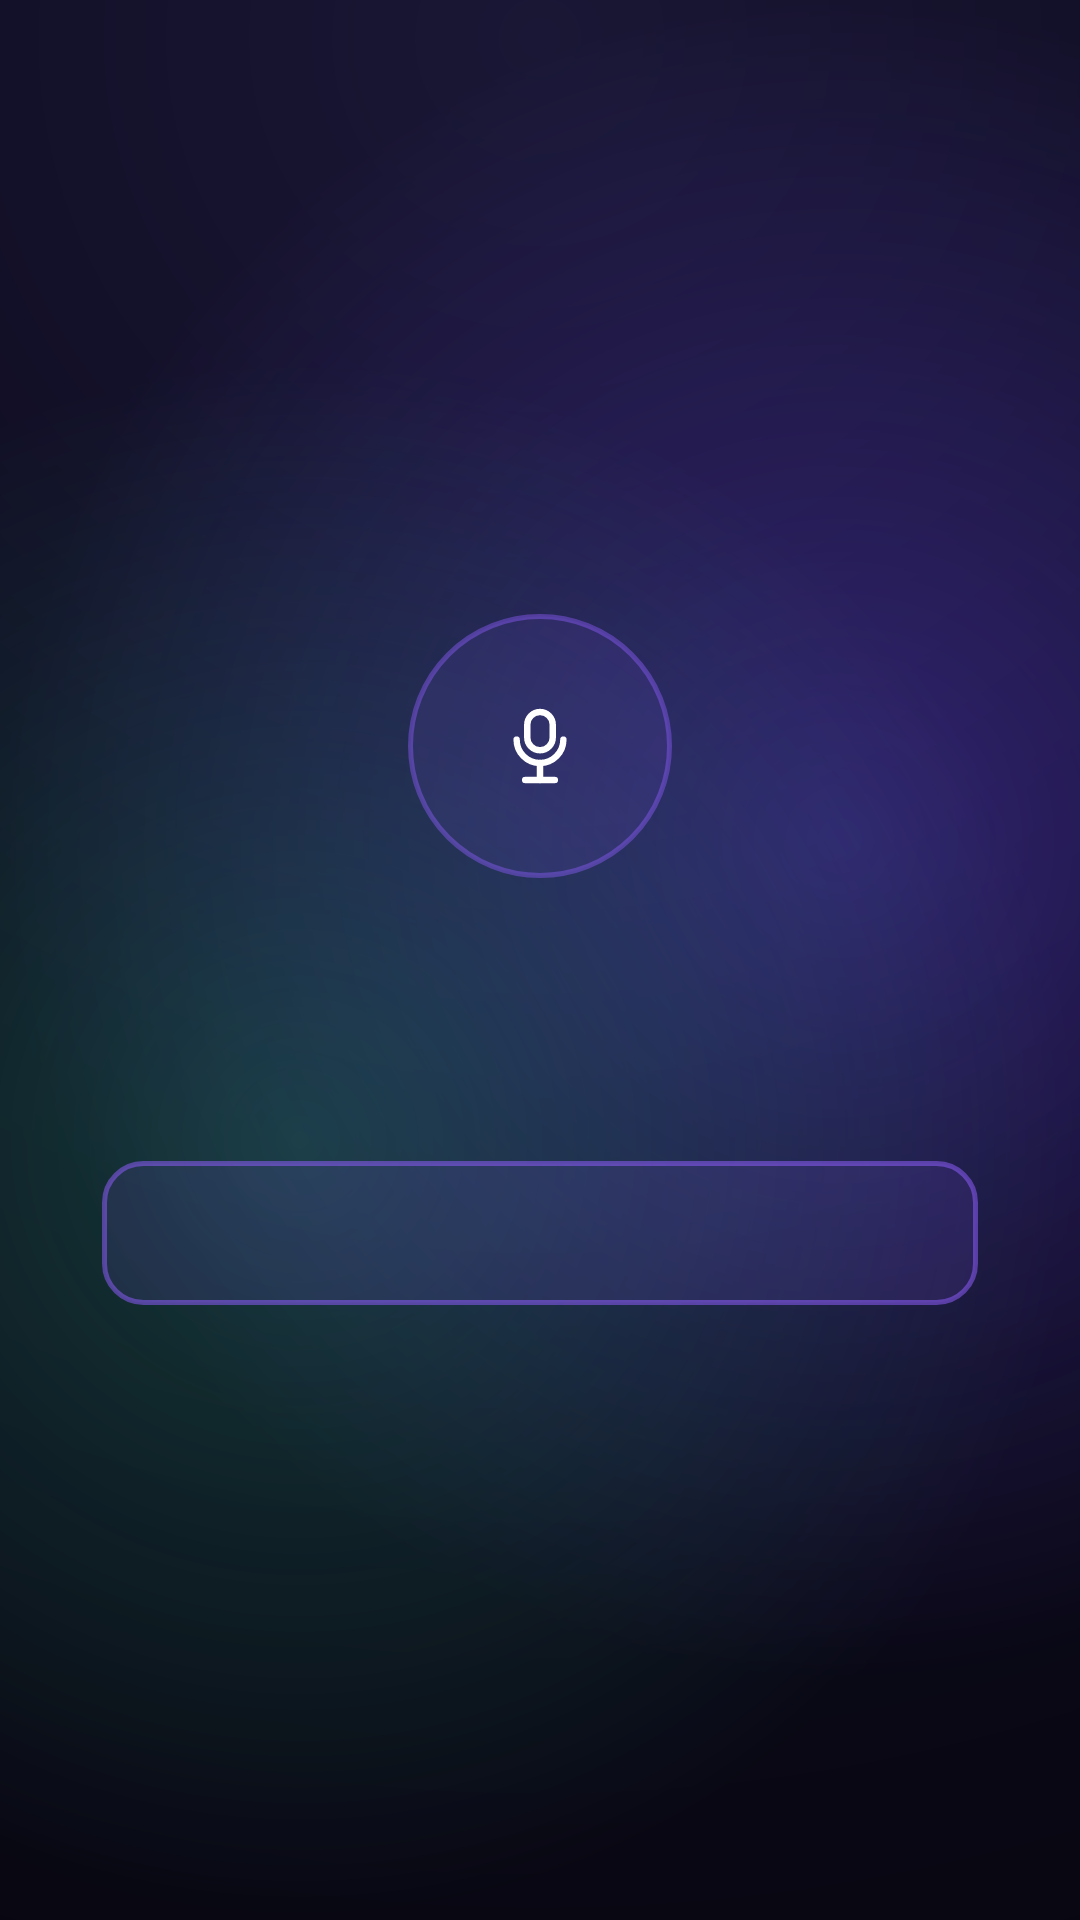

Locate icon controls on the screen. Image size 1080 × 1920, boxes as (x1, y1, x2, y2).
mic: (513, 708, 567, 784)
